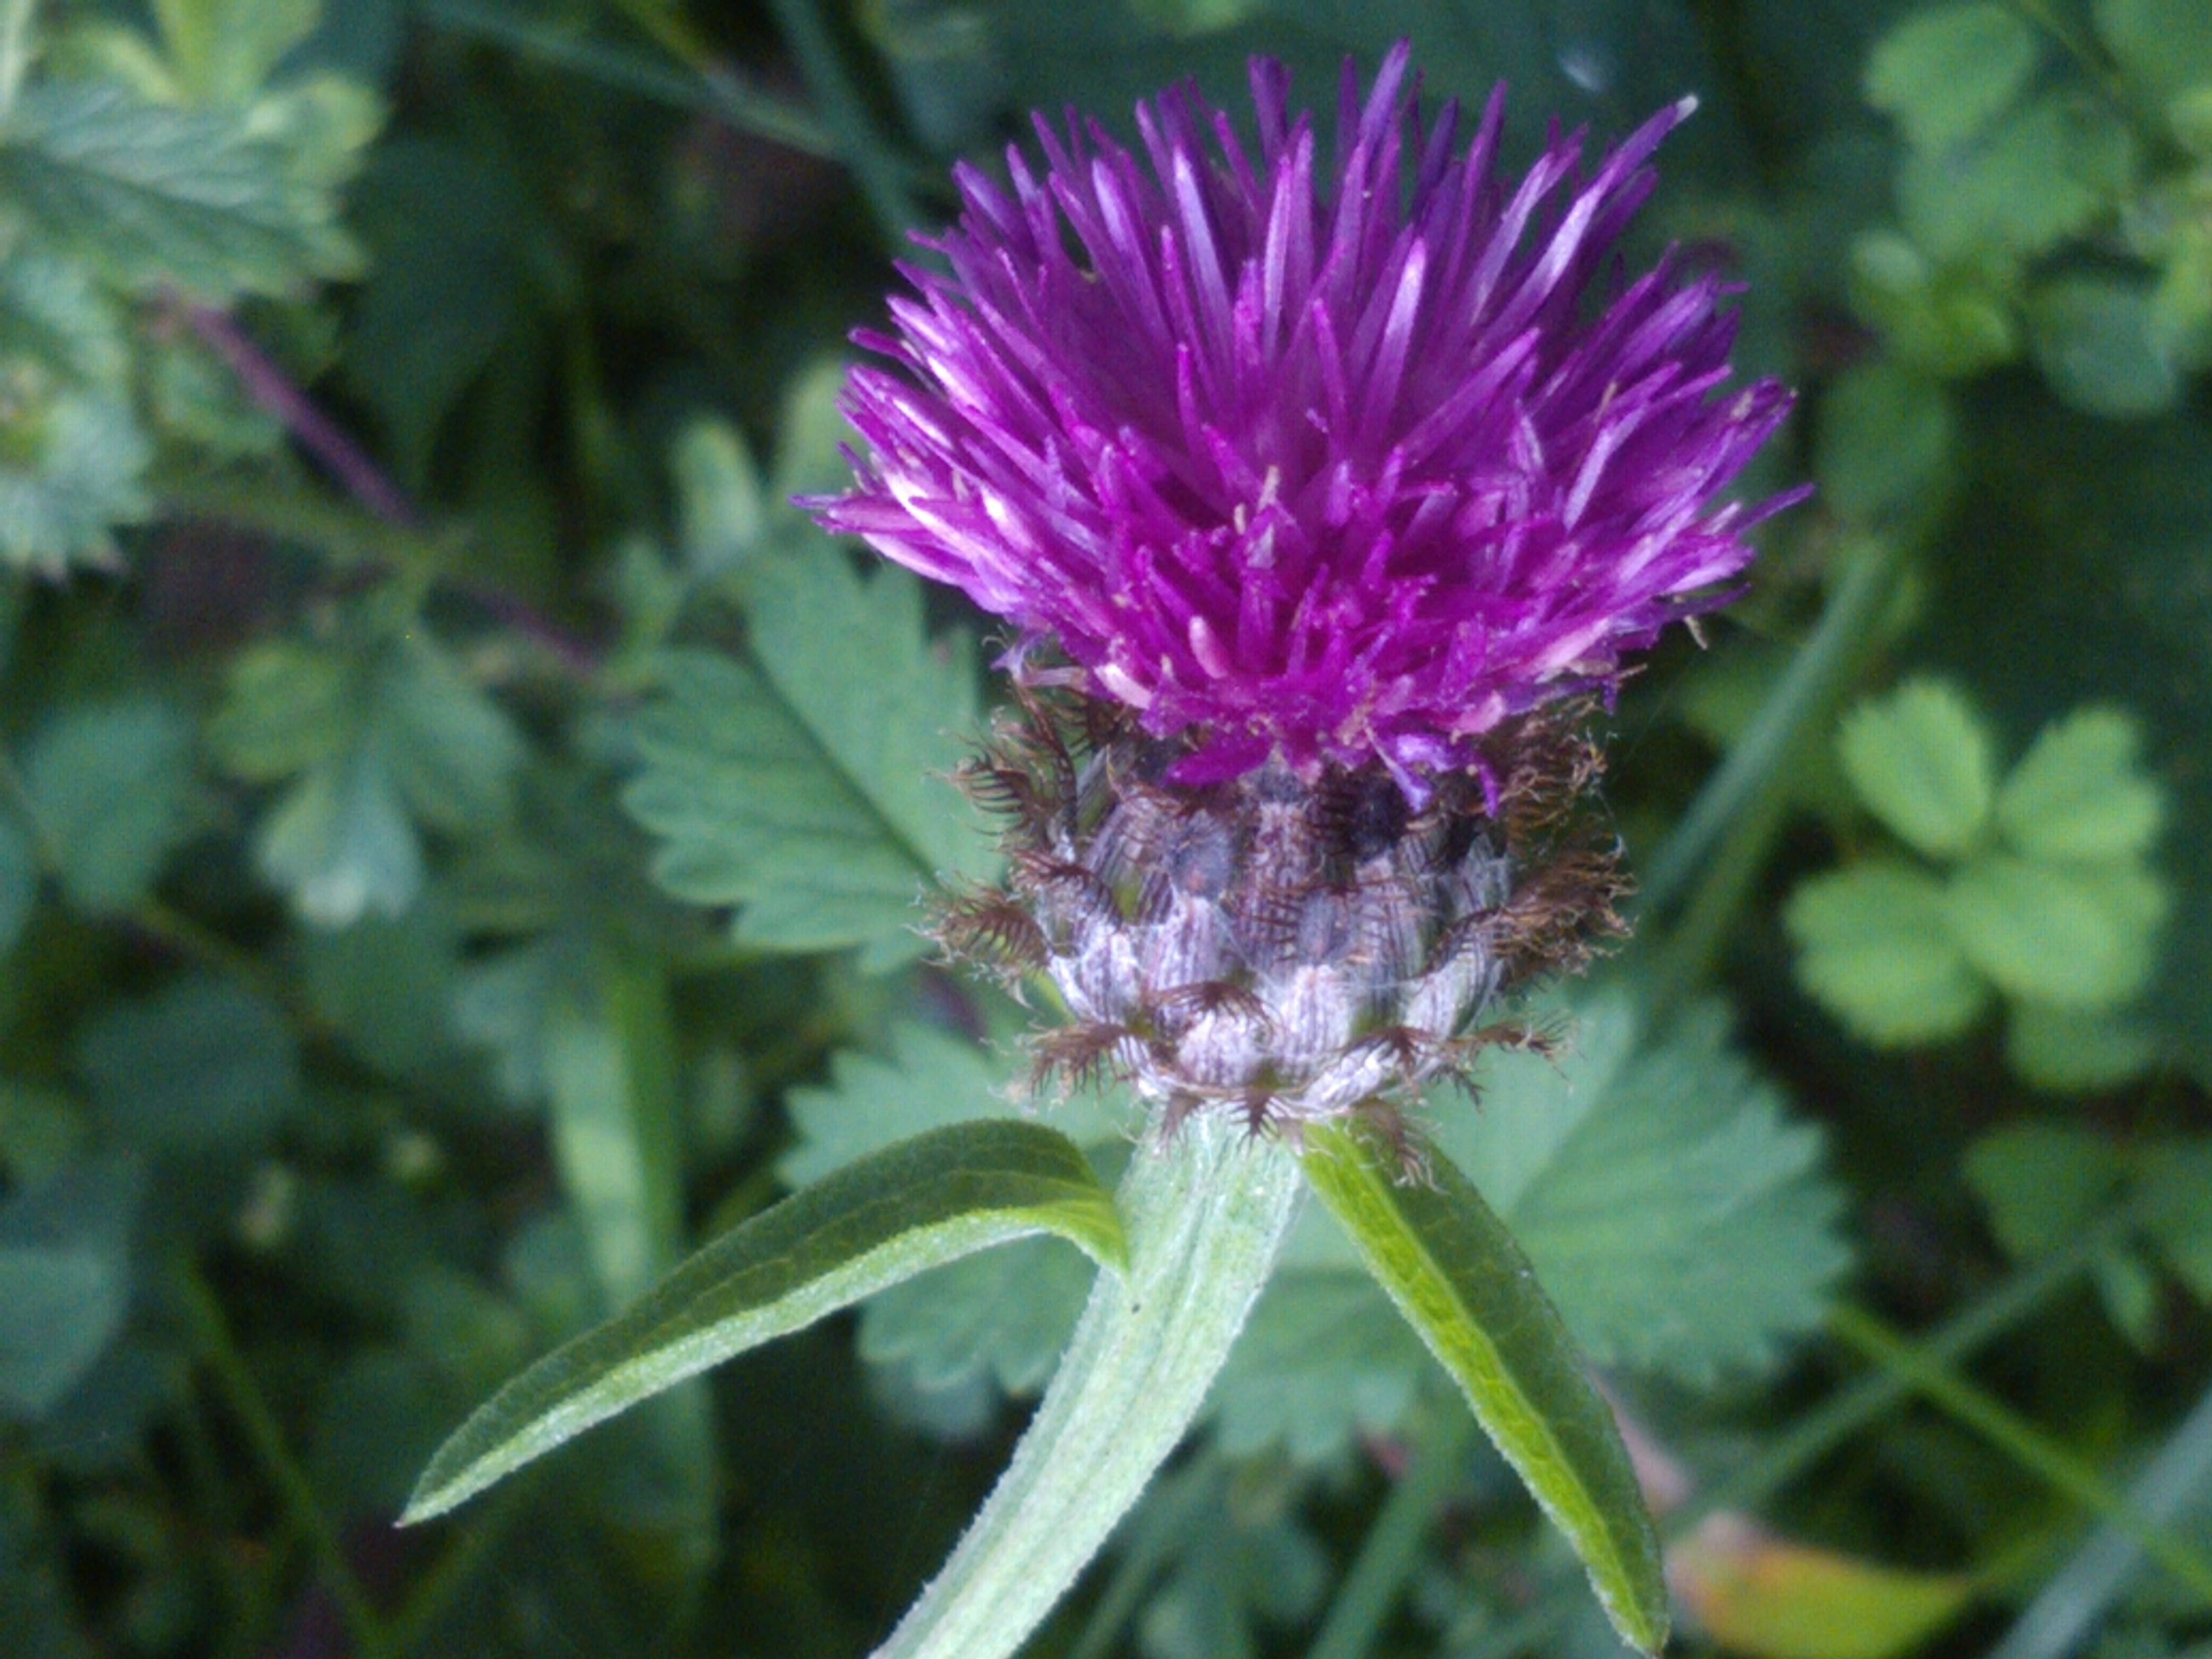thistle: (777, 56, 1792, 1157)
